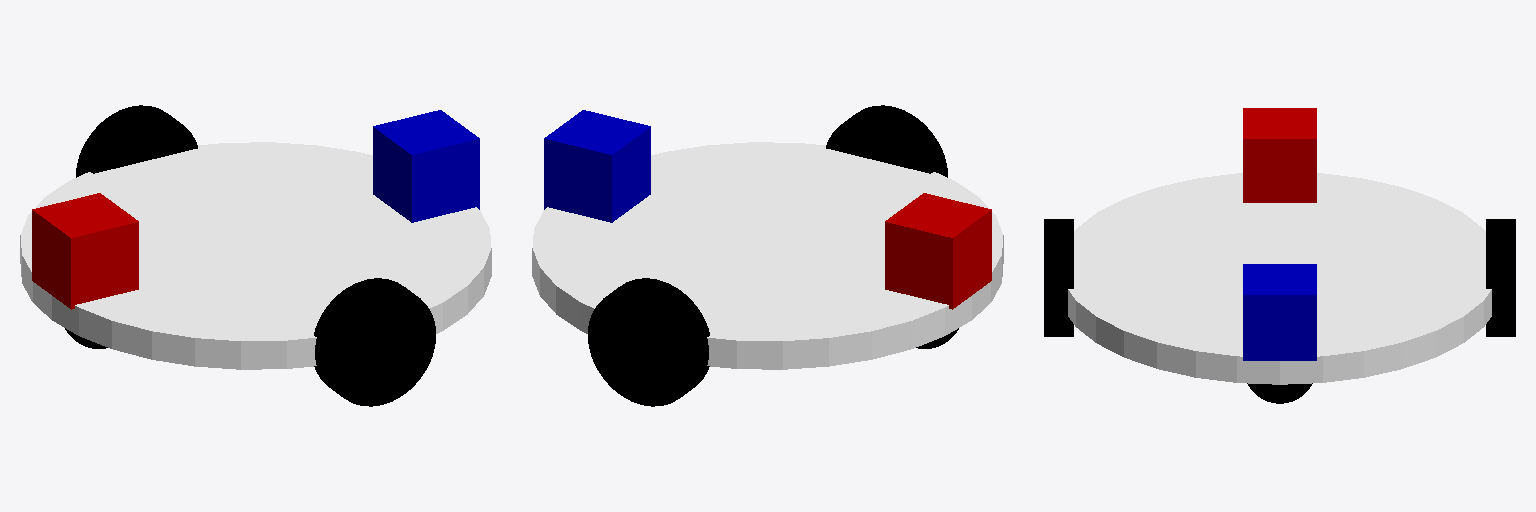
The robot description file, URDF, robot "differential_wheeled_robot":
<?xml version="1.0" ?>
<!-- =================================================================================== -->
<!-- |    This document was autogenerated by xacro from diff_wheeled_robot.xacro       | -->
<!-- |    EDITING THIS FILE BY HAND IS NOT RECOMMENDED                                 | -->
<!-- =================================================================================== -->
<robot name="differential_wheeled_robot" xmlns:xacro="http://www.ros.org/wiki/xacro">
  <!-- Wheels -->
  <!-- in kg-->
  <!-- Defining the colors used in this robot -->
  <material name="Black">
    <color rgba="0.0 0.0 0.0 1.0"/>
  </material>
  <material name="Red">
    <color rgba="0.8 0.0 0.0 1.0"/>
  </material>
  <material name="White">
    <color rgba="1.0 1.0 1.0 1.0"/>
  </material>
  <material name="Blue">
    <color rgba="0.0 0.0 0.8 1.0"/>
  </material>
  <!-- PROPERTY LIST -->
  <!--All units in m-kg-s-radians unit system -->
  <!-- Main body radius and height -->
  <!-- Main Body Cylinder base   -->
  <!-- in kg-->
  <!-- caster wheel radius and height -->
  <!-- caster wheel mass -->
  <!-- in kg-->
  <!-- caster wheel radius and height -->
  <!-- caster wheel mass -->
  <!-- in kg-->
  <!-- Wheels -->
  <!-- in kg-->
  <!-- Hokuyo Laser scanner -->
  <!-- Macro for calculating inertia of cylinder -->
  <!-- BASE-FOOTPRINT -->
  <!-- base_footprint is a fictitious link(frame) that is on the ground right below base_link origin -->
  <link name="base_footprint">
    <inertial>
      <mass value="0.0001"/>
      <origin xyz="0 0 0"/>
      <inertia ixx="0.0001" ixy="0.0" ixz="0.0" iyy="0.0001" iyz="0.0" izz="0.0001"/>
    </inertial>
    <visual>
      <origin rpy="0 0 0" xyz="0 0 0"/>
      <geometry>
        <box size="0.001 0.001 0.001"/>
      </geometry>
    </visual>
  </link>
  <gazebo reference="base_footprint">
    <turnGravityOff>false</turnGravityOff>
  </gazebo>
  <joint name="base_footprint_joint" type="fixed">
    <origin rpy="0 0 0" xyz="0 0 0.04"/>
    <parent link="base_footprint"/>
    <child link="base_link"/>
  </joint>
  <!-- BASE-LINK -->
  <!--Actual body/chassis of the robot-->
  <link name="base_link">
    <inertial>
      <mass value="5"/>
      <origin xyz="0 0 0"/>
      <!--The 3x3 rotational inertia matrix. -->
      <inertia ixx="0.0282916666667" ixy="0" ixz="0" iyy="0.0282916666667" iyz="0" izz="0.05625"/>
    </inertial>
    <visual>
      <origin rpy="0 0 0" xyz="0 0 0"/>
      <geometry>
        <cylinder length="0.02" radius="0.15"/>
      </geometry>
      <material name="White"/>
    </visual>
    <collision>
      <origin rpy="0 0 0 " xyz="0 0 0"/>
      <geometry>
        <cylinder length="0.02" radius="0.15"/>
      </geometry>
    </collision>
  </link>
  <gazebo reference="base_link">
    <material>Gazebo/White</material>
    <turnGravityOff>false</turnGravityOff>
  </gazebo>
  <!--fb : front, back ; lr: left, right -->
  <link name="front_right_wheel">
    <visual>
      <origin rpy="1.57079632679 0  0 " xyz="0 0 0"/>
      <geometry>
        <cylinder length="0.02" radius="0.04"/>
      </geometry>
      <material name="Black"/>
    </visual>
    <collision>
      <origin rpy="1.57079632679 0 0 " xyz="0 0 0"/>
      <geometry>
        <cylinder length="0.02" radius="0.04"/>
      </geometry>
    </collision>
    <inertial>
      <mass value="2.5"/>
      <origin xyz="0 0 0"/>
      <inertia ixx="0.00108333333333" ixy="0" ixz="0" iyy="0.00108333333333" iyz="0" izz="0.002"/>
    </inertial>
  </link>
  <gazebo reference="front_right_wheel">
    <mu1 value="1.0"/>
    <mu2 value="1.0"/>
    <kp value="10000000.0"/>
    <kd value="1.0"/>
    <fdir1 value="1 0 0"/>
    <material>Gazebo/Black</material>
    <turnGravityOff>false</turnGravityOff>
  </gazebo>
  <joint name="front_right_wheel_joint" type="continuous">
    <parent link="base_link"/>
    <child link="front_right_wheel"/>
    <origin rpy="0 0 0" xyz="0.0 0.15 0.0"/>
    <axis rpy="0  0" xyz="0 1 0"/>
    <limit effort="100" velocity="100"/>
    <joint_properties damping="0.0" friction="0.0"/>
  </joint>
  <!-- Transmission is important to link the joints and the controller -->
  <transmission name="front_right_wheel_joint_trans">
    <type>transmission_interface/SimpleTransmission</type>
    <joint name="front_right_wheel_joint"/>
    <actuator name="front_right_wheel_joint_motor">
      <hardwareInterface>EffortJointInterface</hardwareInterface>
      <mechanicalReduction>1</mechanicalReduction>
    </actuator>
  </transmission>
  <!--fb : front, back ; lr: left, right -->
  <link name="front_left_wheel">
    <visual>
      <origin rpy="1.57079632679 0  0 " xyz="0 0 0"/>
      <geometry>
        <cylinder length="0.02" radius="0.04"/>
      </geometry>
      <material name="Black"/>
    </visual>
    <collision>
      <origin rpy="1.57079632679 0 0 " xyz="0 0 0"/>
      <geometry>
        <cylinder length="0.02" radius="0.04"/>
      </geometry>
    </collision>
    <inertial>
      <mass value="2.5"/>
      <origin xyz="0 0 0"/>
      <inertia ixx="0.00108333333333" ixy="0" ixz="0" iyy="0.00108333333333" iyz="0" izz="0.002"/>
    </inertial>
  </link>
  <gazebo reference="front_left_wheel">
    <mu1 value="1.0"/>
    <mu2 value="1.0"/>
    <kp value="10000000.0"/>
    <kd value="1.0"/>
    <fdir1 value="1 0 0"/>
    <material>Gazebo/Black</material>
    <turnGravityOff>false</turnGravityOff>
  </gazebo>
  <joint name="front_left_wheel_joint" type="continuous">
    <parent link="base_link"/>
    <child link="front_left_wheel"/>
    <origin rpy="0 0 0" xyz="0.0 -0.15 0.0"/>
    <axis rpy="0  0" xyz="0 1 0"/>
    <limit effort="100" velocity="100"/>
    <joint_properties damping="0.0" friction="0.0"/>
  </joint>
  <!-- Transmission is important to link the joints and the controller -->
  <transmission name="front_left_wheel_joint_trans">
    <type>transmission_interface/SimpleTransmission</type>
    <joint name="front_left_wheel_joint"/>
    <actuator name="front_left_wheel_joint_motor">
      <hardwareInterface>EffortJointInterface</hardwareInterface>
      <mechanicalReduction>1</mechanicalReduction>
    </actuator>
  </transmission>
  <!--Caster front  -->
  <link name="caster_front_link">
    <visual>
      <origin rpy="1.57079632679 0 0" xyz="0 0.02 0"/>
      <geometry>
        <sphere radius="0.025"/>
      </geometry>
      <material name="Black"/>
    </visual>
    <collision>
      <geometry>
        <sphere radius="0.025"/>
      </geometry>
      <origin rpy="1.57079632679 0 0" xyz="0 0.02 0"/>
    </collision>
    <inertial>
      <mass value="0.5"/>
      <origin xyz="0 0 0"/>
      <inertia ixx="0.001" ixy="0.0" ixz="0.0" iyy="0.001" iyz="0.0" izz="0.001"/>
    </inertial>
  </link>
  <joint name="caster_front_joint" type="fixed">
    <parent link="base_link"/>
    <child link="caster_front_link"/>
    <origin rpy="-1.57079632679 0 0" xyz="0.115 0.0 0.007"/>
  </joint>
  <gazebo reference="caster_front_link">
    <turnGravityOff>false</turnGravityOff>
  </gazebo>
  <!--Caster back  -->
  <link name="caster_back_link">
    <visual>
      <origin rpy="1.57079632679 0 0" xyz="0.02 0.02 0 "/>
      <geometry>
        <sphere radius="0.025"/>
      </geometry>
      <material name="Black"/>
    </visual>
    <collision>
      <geometry>
        <sphere radius="0.025"/>
      </geometry>
      <origin rpy="1.57079632679 0 0" xyz="0 0.02 0 "/>
    </collision>
    <inertial>
      <mass value="0.5"/>
      <origin xyz="0 0 0"/>
      <inertia ixx="0.001" ixy="0.0" ixz="0.0" iyy="0.001" iyz="0.0" izz="0.001"/>
    </inertial>
  </link>
  <joint name="caster_back_joint" type="fixed">
    <parent link="base_link"/>
    <child link="caster_back_link"/>
    <origin rpy="-1.57079632679 0 0" xyz="-0.135 0.0 0.009"/>
  </joint>
  <gazebo reference="caster_back_link">
    <turnGravityOff>false</turnGravityOff>
  </gazebo>

  <!-- SENSORS -->
  <link name="camera_link_1">
    <collision>
      <origin xyz="0 0 0" rpy="0 0 0"/>
      <geometry>
        <box size="0.05 0.05 0.05"/>
      </geometry>
    </collision>

    <visual>
      <origin xyz="0 0 0" rpy="0 0 0"/>
      <geometry>
        <box size="0.05 0.05 0.05"/>
      </geometry>
      <material name="Red"/>
    </visual>

    <inertial>
      <mass value="1e-5" />
      <origin xyz="0 0 0" rpy="0 0 0"/>
      <inertia ixx="1e-6" ixy="0" ixz="0" iyy="1e-6" iyz="0" izz="1e-6" />
    </inertial>
  </link>
  <joint name="camera_joint_1" type="fixed">
    <axis xyz="1 0 0" />
    <origin xyz="-0.125 0 0.0325"/>
    <parent link="base_link"/>
    <child link="camera_link_1"/>
  </joint>

  <gazebo reference="camera_link_1">
      <sensor type="camera" name="camera1">
        <update_rate>30.0</update_rate>
        <camera name="head">
          <horizontal_fov>1.3962634</horizontal_fov>
          <image>
            <width>800</width>
            <height>800</height>
            <format>R8G8B8</format>
          </image>
          <clip>
            <near>0.02</near>
            <far>300</far>
          </clip>
          <noise>
            <type>gaussian</type>
            <!-- Noise is sampled independently per pixel on each frame.
                That pixel's noise value is added to each of its color
                channels, which at that point lie in the range [0,1]. -->
            <mean>0.0</mean>
            <stddev>0.007</stddev>
          </noise>
        </camera>
        <plugin name="camera_controller" filename="libgazebo_ros_camera.so">
          <alwaysOn>true</alwaysOn>
          <updateRate>0.0</updateRate>
          <cameraName>my_robot/camera1</cameraName>
          <imageTopicName>image_raw</imageTopicName>
          <cameraInfoTopicName>camera_info</cameraInfoTopicName>
          <frameName>camera_link_1</frameName>
          <hackBaseline>0.07</hackBaseline>
          <distortionK1>0.0</distortionK1>
          <distortionK2>0.0</distortionK2>
          <distortionK3>0.0</distortionK3>
          <distortionT1>0.0</distortionT1>
          <distortionT2>0.0</distortionT2>
        </plugin>
      </sensor>
  </gazebo>
  <!-- hokuyo -->
  <link name="hokuyo_link">
    <visual>
      <origin rpy="0 0 0" xyz="0 0 0"/>
      <geometry>
        <box size="0.05 0.05 0.05"/>
      </geometry>
      <material name="Blue"/>
    </visual>
    <collision>
      <origin xyz="0 0 0" rpy="0 0 0"/>
      <geometry>
        <box size="0.05 0.05 0.05"/>
      </geometry>
    </collision>
    <inertial>
      <mass value="1e-5" />
      <origin xyz="0 0 0" rpy="0 0 0"/>
      <inertia ixx="1e-6" ixy="0" ixz="0" iyy="1e-6" iyz="0" izz="1e-6" />
    </inertial>
  </link>
  <joint name="hokuyo_joint" type="fixed">
    <origin rpy="0 0 0" xyz="0.125 0 0.0325"/>
    <parent link="base_link"/>
    <child link="hokuyo_link"/>
  </joint>
  <gazebo reference="hokuyo_link">
    <material>Gazebo/Blue</material>
    <turnGravityOff>false</turnGravityOff>
    <sensor name="head_hokuyo_sensor" type="ray">
      <pose>0.025 0 0 0 0 0</pose>
      <visualize>false</visualize>
      <update_rate>40</update_rate>
      <ray>
        <scan>
          <horizontal>
            <samples>720</samples>
            <resolution>1</resolution>
            <min_angle>-1.570796</min_angle>
            <max_angle>1.570796</max_angle>
          </horizontal>
        </scan>
        <range>
          <min>0.10</min>
          <max>10.0</max>
          <resolution>0.001</resolution>
        </range>
      </ray>
      <plugin filename="libgazebo_ros_laser.so" name="gazebo_ros_head_hokuyo_controller">
         <topicName>/my_robot/laser/scan</topicName>
        <frameName>hokuyo_link</frameName>
      </plugin>
    </sensor>
  </gazebo>
  
  
  <!-- Differential drive controller  -->
  <gazebo>
    <plugin filename="libgazebo_ros_diff_drive.so" name="differential_drive_controller_front">
      <rosDebugLevel>Debug</rosDebugLevel>
      <publishWheelTF>True</publishWheelTF>
      <publishTf>1</publishTf>
      <publishWheelJointState>true</publishWheelJointState>
      <alwaysOn>true</alwaysOn>
      <updateRate>100.0</updateRate>
      <leftJoint>front_left_wheel_joint</leftJoint>
      <rightJoint>front_right_wheel_joint</rightJoint>
      <wheelSeparation>0.3</wheelSeparation>
      <wheelDiameter>0.08</wheelDiameter>
      <broadcastTF>1</broadcastTF>
      <wheelTorque>30</wheelTorque>
      <wheelAcceleration>1.8</wheelAcceleration>
      <commandTopic>cmd_vel</commandTopic>
      <odometryFrame>odom</odometryFrame>
      <odometryTopic>odom</odometryTopic>
      <robotBaseFrame>base_link</robotBaseFrame>
    </plugin>
  </gazebo>
</robot>

  

--- Facts derived from the render (not from the file) ---
Views: 3 orthographic renders of the robot side by side, from view 1: azimuth 30°, elevation 25°; view 2: azimuth 150°, elevation 25°; view 3: azimuth 270°, elevation 25°.
Robot: differential_wheeled_robot — 8 links, 7 joints (2 continuous, 5 fixed); root link base_footprint; default pose: every joint at zero.
Links seen in each view (by area): view 1: base_link, front_left_wheel, camera_link_1, hokuyo_link, front_right_wheel; view 2: base_link, front_right_wheel, camera_link_1, hokuyo_link, front_left_wheel; view 3: base_link, hokuyo_link, camera_link_1, front_right_wheel, front_left_wheel, caster_front_link.
Boxes of the visible links, bbox=[...] form: base_link: bbox=[20, 142, 491, 369]; front_left_wheel: bbox=[314, 278, 435, 406]; camera_link_1: bbox=[32, 193, 138, 309]; hokuyo_link: bbox=[373, 110, 479, 222]; front_right_wheel: bbox=[76, 105, 197, 177]; base_link: bbox=[532, 142, 1003, 369]; front_right_wheel: bbox=[588, 278, 709, 406]; camera_link_1: bbox=[885, 193, 991, 309]; hokuyo_link: bbox=[544, 110, 650, 222]; front_left_wheel: bbox=[826, 105, 947, 177]; base_link: bbox=[1068, 173, 1491, 384]; hokuyo_link: bbox=[1243, 264, 1316, 360]; camera_link_1: bbox=[1243, 108, 1316, 202]; front_right_wheel: bbox=[1486, 219, 1515, 336]; front_left_wheel: bbox=[1044, 219, 1073, 336]; caster_front_link: bbox=[1247, 383, 1312, 403].
Size in the robot's own frame: 0.3 by 0.32 by 0.098 metres.
Geometry: primitives only (box / cylinder / sphere), no mesh files.
